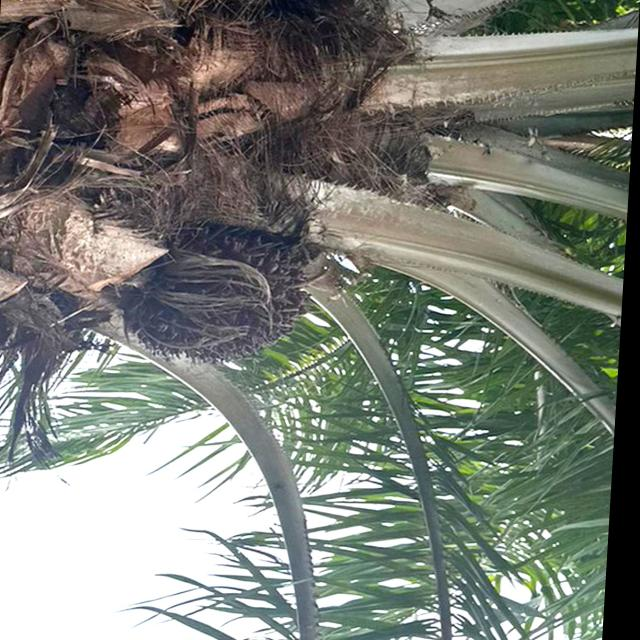ripe: (135, 223, 321, 373)
